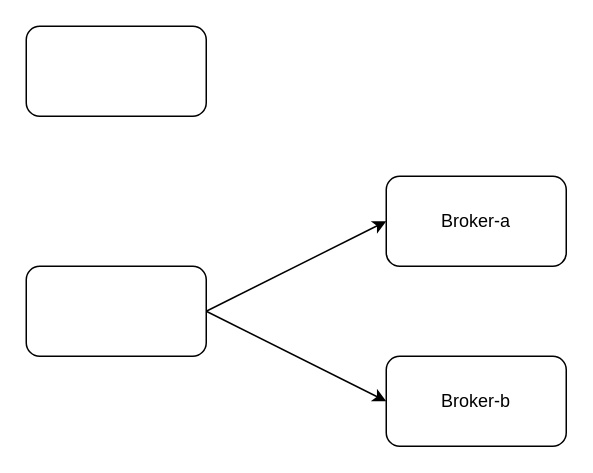
The diagram is 593 pixels wide and 473 high, and some of its shapes have lost their labels. The shapes that lost their labels are listed below. From the top down, each one's box as (x1, y1, x2, y2) in pixels, then its label:
(25, 25, 206, 116): NameServer
(25, 265, 206, 356): Consumer
